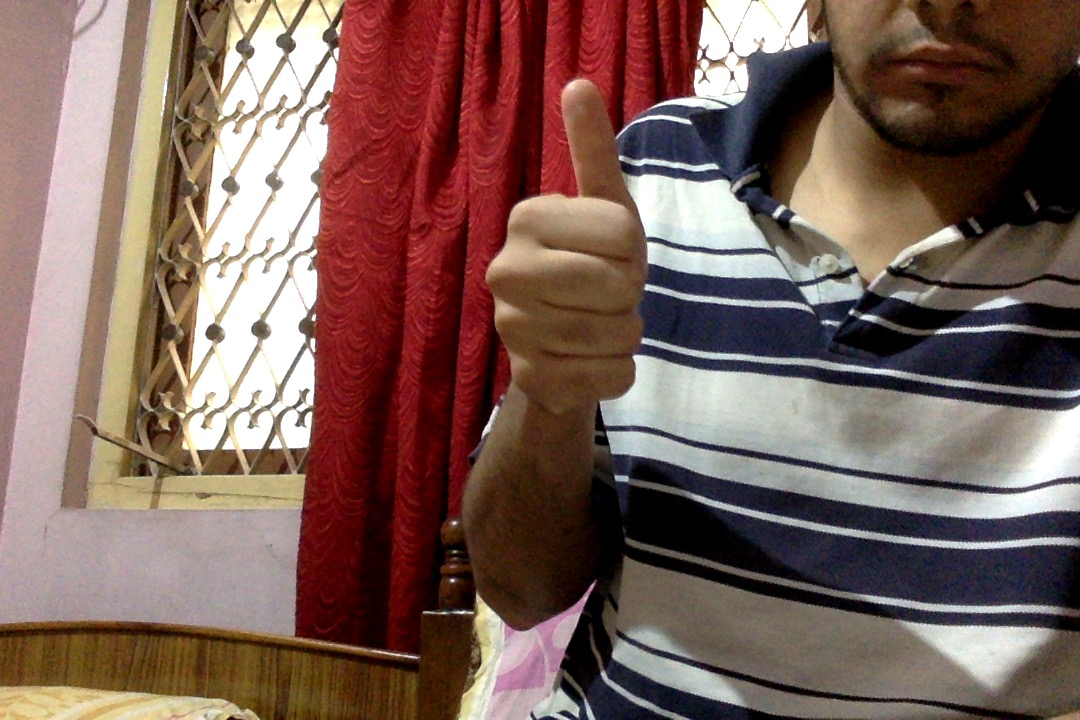hand: (411, 55, 733, 456)
